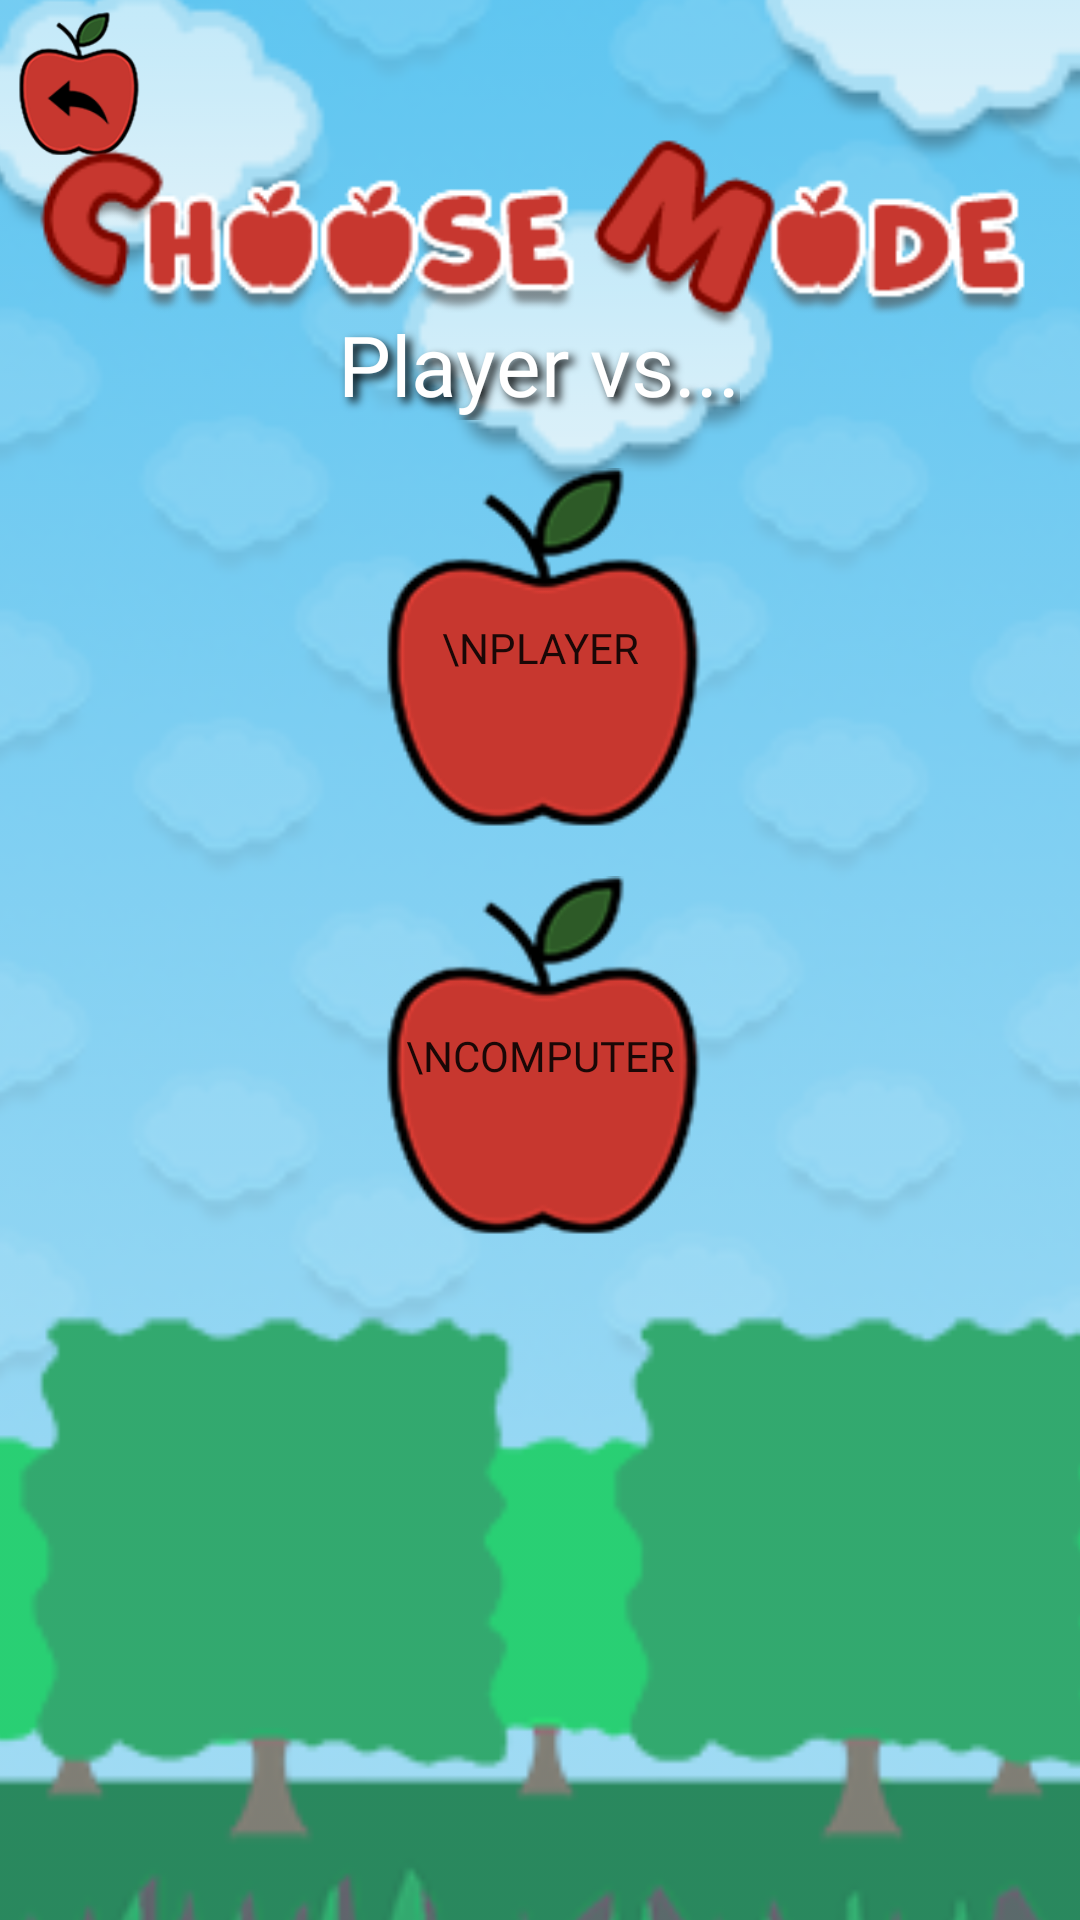

Named icons in this screenshot (1080 × 1920) and their centers, (x=x, y=y):
backbutton: (x=78, y=84)
